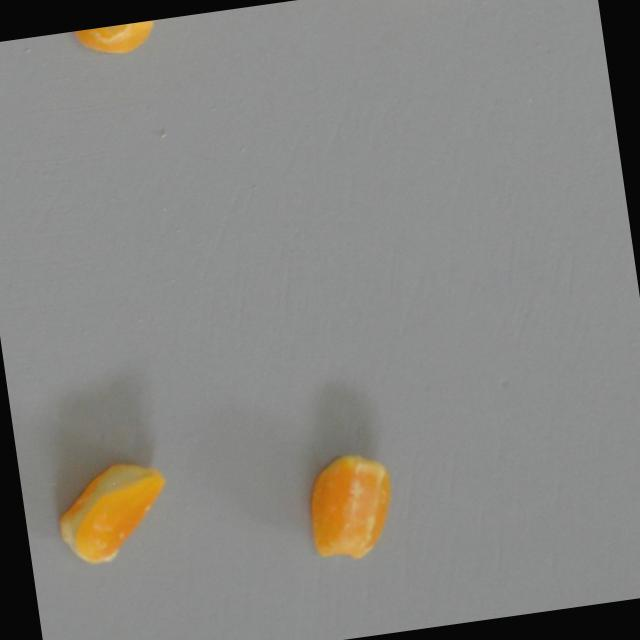pelicula: (48, 453, 181, 573), (298, 444, 407, 568), (72, 19, 164, 59), (368, 0, 466, 14)
